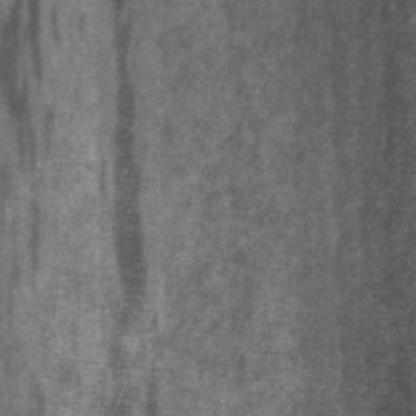inclusion: (102, 0, 154, 370), (4, 0, 58, 187), (19, 166, 52, 306)
